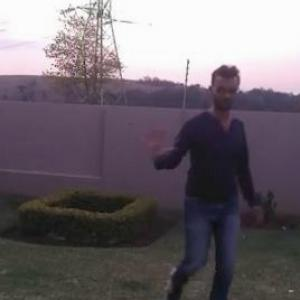follow_hand: (138, 123, 174, 160)
